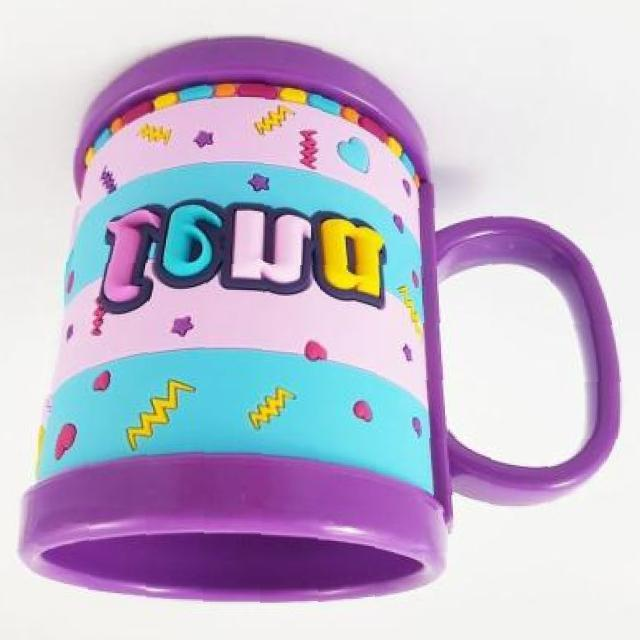cup: (8, 29, 632, 616)
